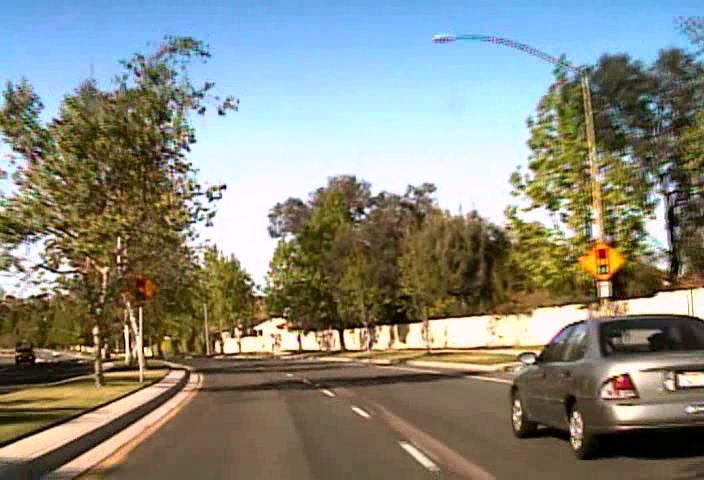signalAhead: (577, 239, 626, 280)
